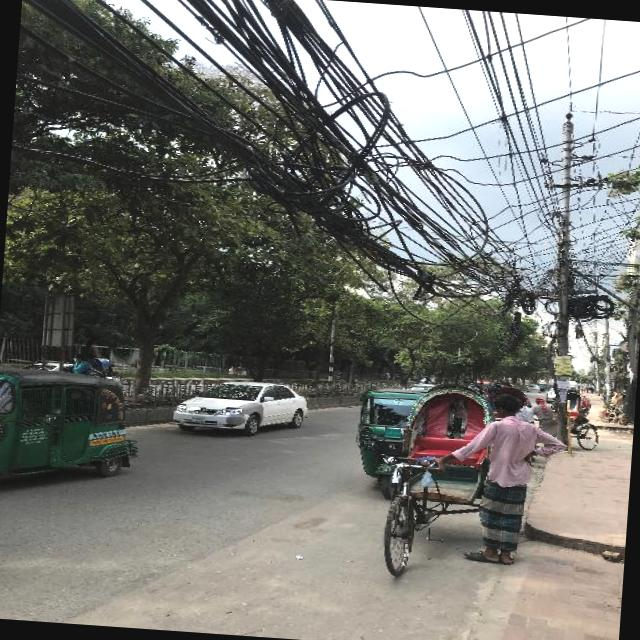car: (166, 376, 308, 438), (524, 382, 538, 390)
motorcycle: (366, 376, 494, 584), (0, 363, 143, 496), (348, 382, 428, 500), (546, 388, 602, 450)
